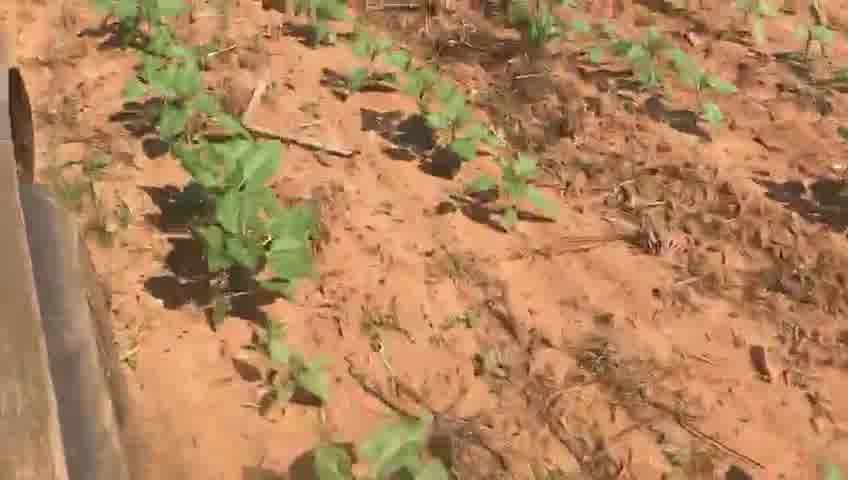sunflower: (193, 188, 333, 304), (298, 420, 460, 478), (130, 50, 241, 129), (174, 128, 285, 203), (252, 332, 342, 420), (661, 50, 743, 138), (467, 156, 565, 226), (421, 90, 495, 163), (593, 29, 673, 93), (100, 2, 185, 53), (370, 50, 441, 110), (338, 32, 398, 99)
